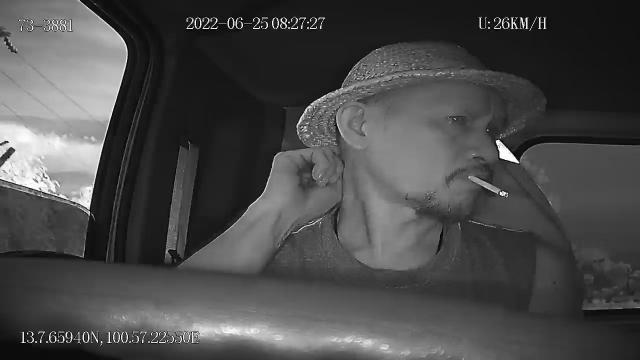Smoking: (468, 174, 510, 198)
